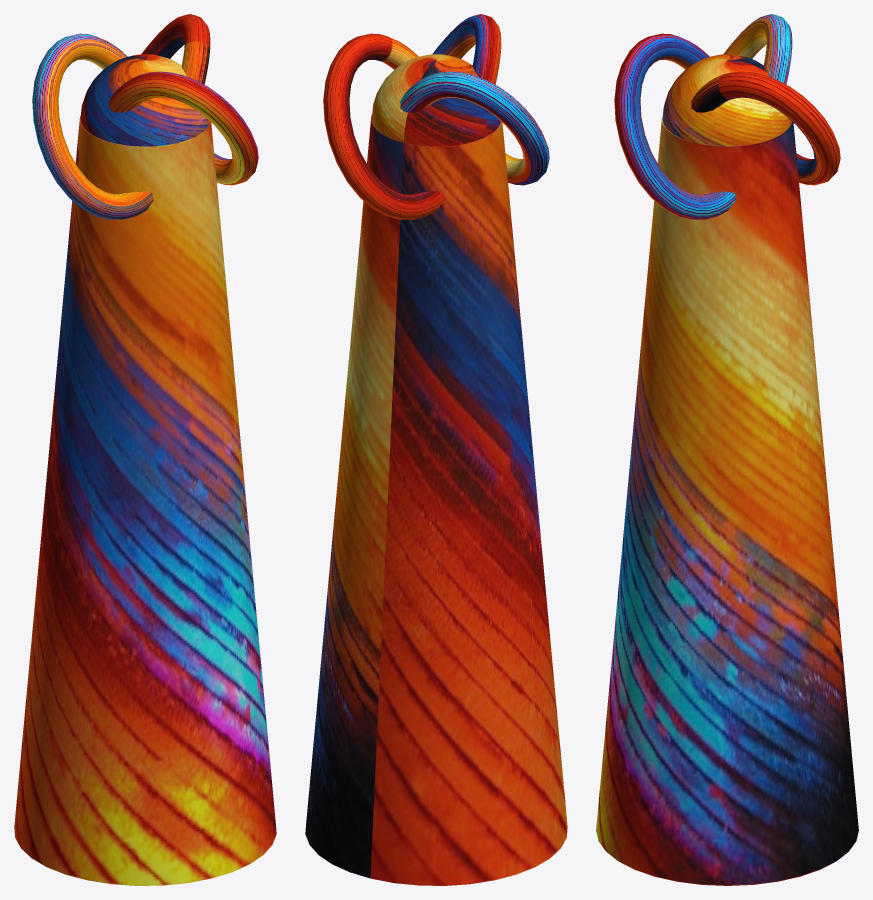
Rendered from Pole_Swirly.FBX.
The picture shows the model from 3 angles, left to right: view 1: azimuth 30°, elevation 25°; view 2: azimuth 150°, elevation 25°; view 3: azimuth 270°, elevation 25°; orthographic projection.
Visible parts, largest first — view 1: Cone001, Torus Knot001, Sphere001; view 2: Cone001, Torus Knot001, Sphere001; view 3: Cone001, Torus Knot001, Sphere001.
Part boxes in pixels (x1,y1,x2,y2): Cone001: [14, 116, 276, 885]; Torus Knot001: [32, 14, 258, 219]; Sphere001: [80, 54, 209, 146]; Cone001: [305, 115, 567, 885]; Torus Knot001: [323, 14, 549, 219]; Sphere001: [371, 54, 500, 146]; Cone001: [596, 115, 858, 885]; Torus Knot001: [614, 14, 840, 219]; Sphere001: [662, 54, 791, 146].
Bounding box in the file's own units: 20 × 66.08 × 20.
